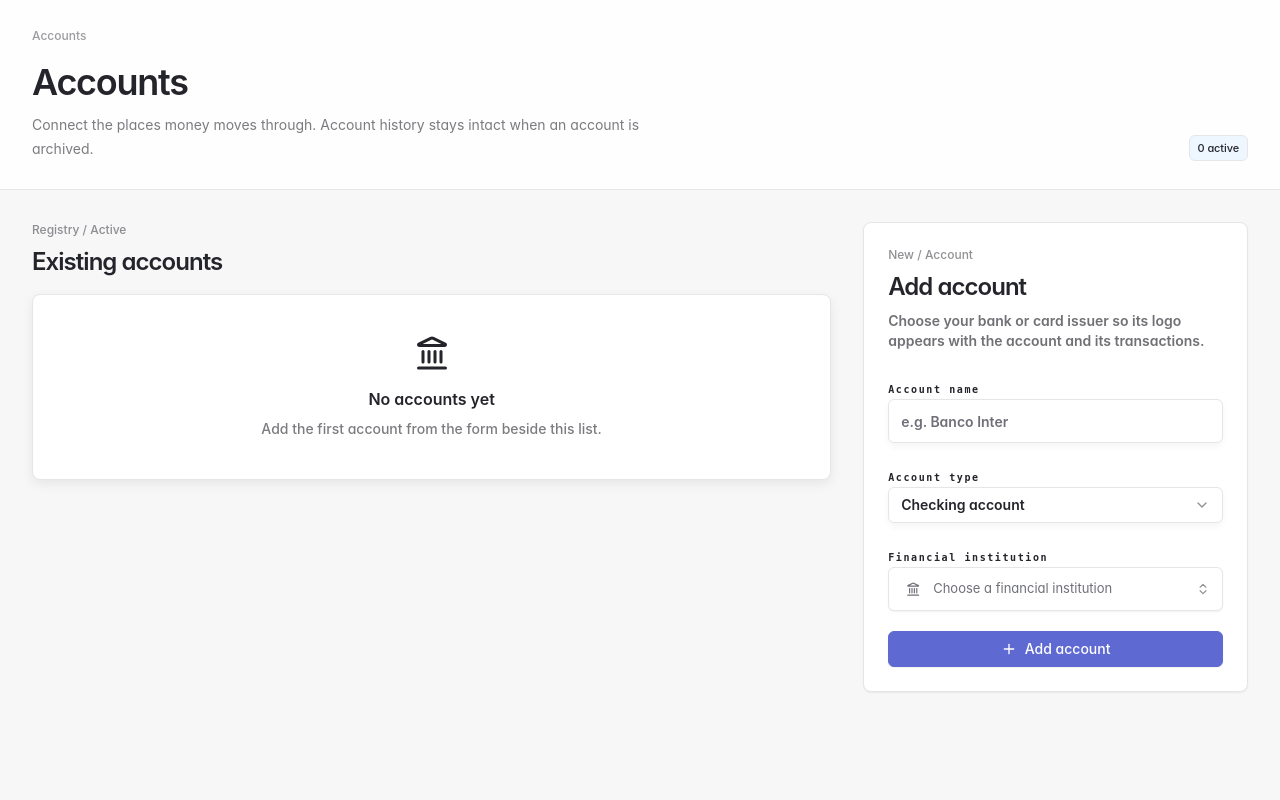
Test: Accounts › shows a validation error instead of silently rejecting an empty name
This screenshot has width=1280, height=800.
Click the button "Add account": (1056, 649) [888,631,1223,667]
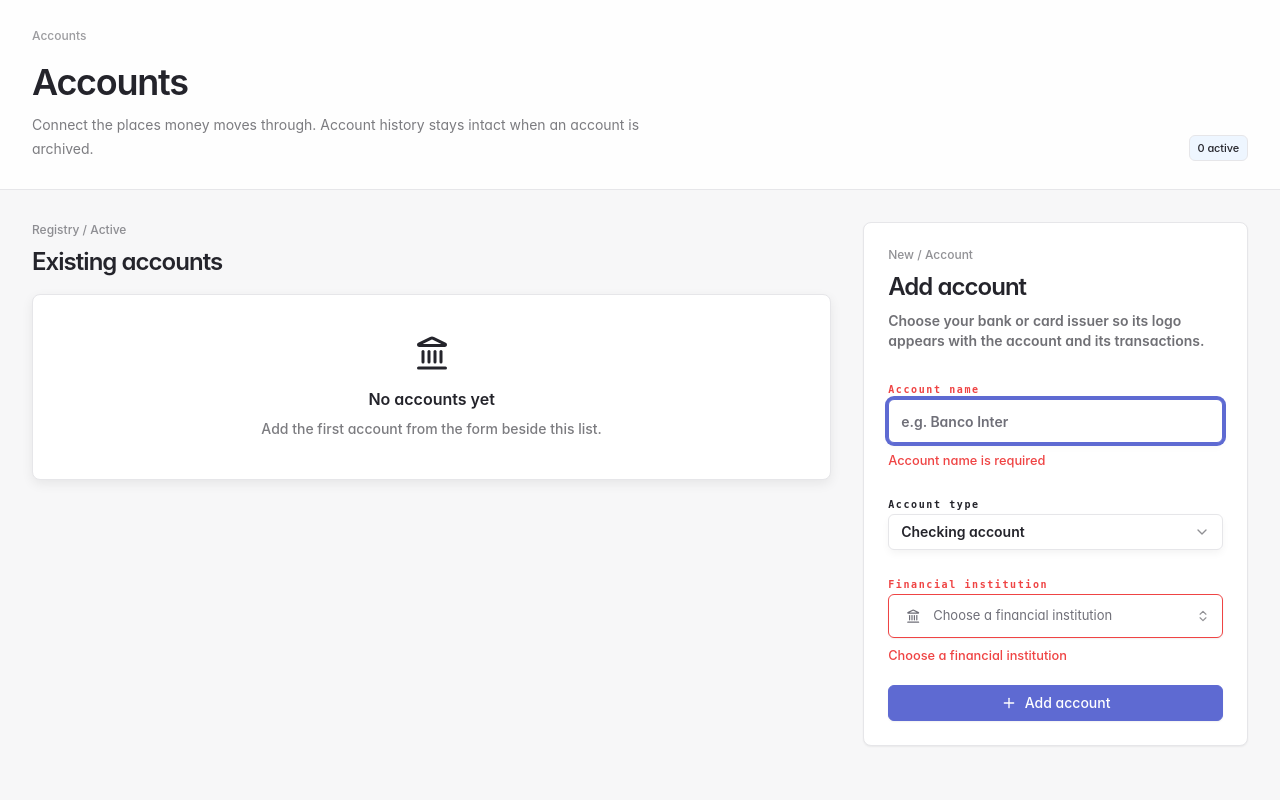
Expected: the text "Account name is required" is shown, [888,453,1046,468]
